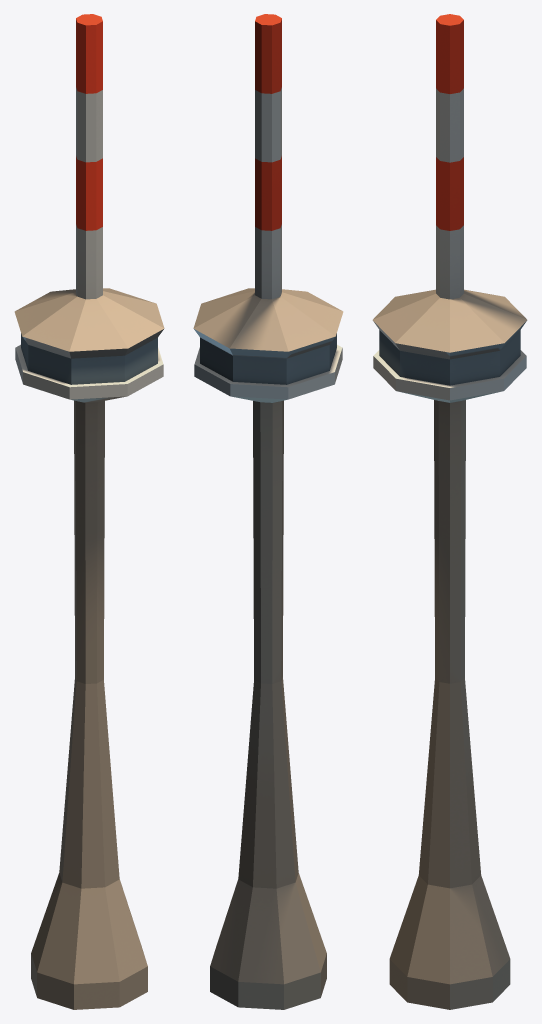
The model's file is PUSHILIN_radio_tower.obj.
The picture shows the model from 3 angles, left to right: view 1: azimuth 30°, elevation 25°; view 2: azimuth 150°, elevation 25°; view 3: azimuth 270°, elevation 25°; orthographic projection.
Parts seen in each view (by area): view 1: radio_tower; view 2: radio_tower; view 3: radio_tower.
Part boxes in pixels (x1=…): radio_tower: x1=14, y1=14, x2=164, y2=1009; radio_tower: x1=193, y1=14, x2=343, y2=1009; radio_tower: x1=372, y1=14, x2=527, y2=1009.
Bounding box in the file's own units: 0.5756 × 3.95 × 0.5756.
1 material, 1 textured.
